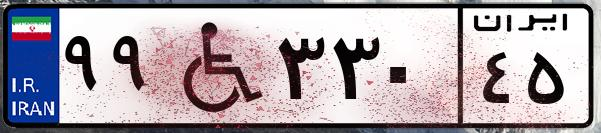0: (385, 28, 445, 110)
3: (270, 28, 330, 110), (330, 28, 385, 110)
4: (475, 38, 525, 113)
5: (525, 38, 570, 115)
9: (57, 26, 110, 100), (110, 28, 158, 98)
ژ (معلولین و جانبازان): (158, 12, 270, 120)
